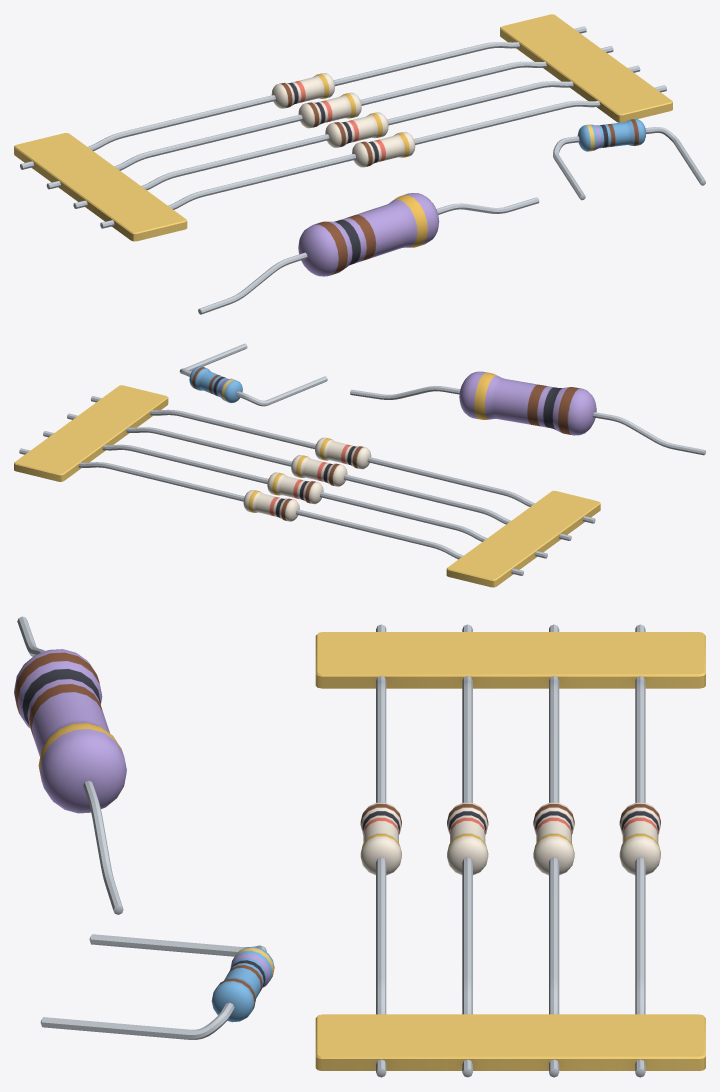
The model's file is resistor.obj.
3 views of the same model, one above another, from view 1: azimuth 30°, elevation 25°; view 2: azimuth 150°, elevation 25°; view 3: azimuth 270°, elevation 25° (orthographic). The views are drawn at different scales.
Visible parts, largest first — view 1: resistor_body; view 2: resistor_body; view 3: resistor_body.
Part boxes in pixels (x1,y1,x2,y2): resistor_body: [14, 14, 705, 314]; resistor_body: [14, 343, 705, 587]; resistor_body: [14, 616, 705, 1077].
Bounding box in the file's own units: 0.0625 × 0.00496 × 0.0401.
Materials: 1 (1 with a texture image).
